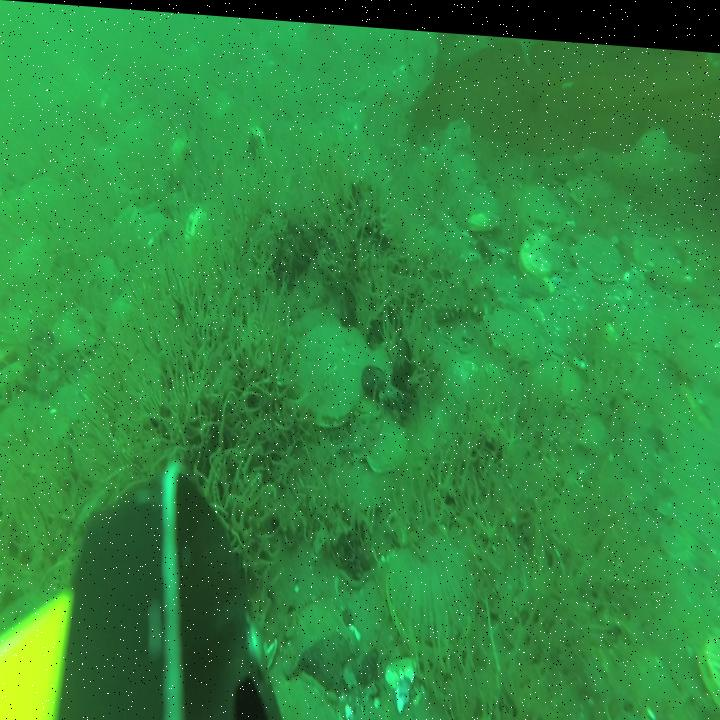holothurian: (428, 266, 498, 320)
scallop: (386, 523, 479, 649), (296, 316, 373, 423), (288, 586, 359, 678), (349, 563, 406, 669), (272, 660, 348, 720), (338, 441, 390, 510), (530, 347, 583, 414), (352, 344, 395, 421), (613, 292, 668, 345), (362, 407, 407, 471), (486, 294, 535, 351), (50, 303, 97, 360), (518, 223, 567, 277), (576, 219, 620, 275), (458, 167, 500, 220), (522, 175, 562, 227), (569, 154, 611, 203), (86, 252, 122, 308), (124, 113, 160, 164), (664, 506, 696, 560), (444, 102, 479, 147), (577, 406, 608, 446), (451, 133, 478, 177)
